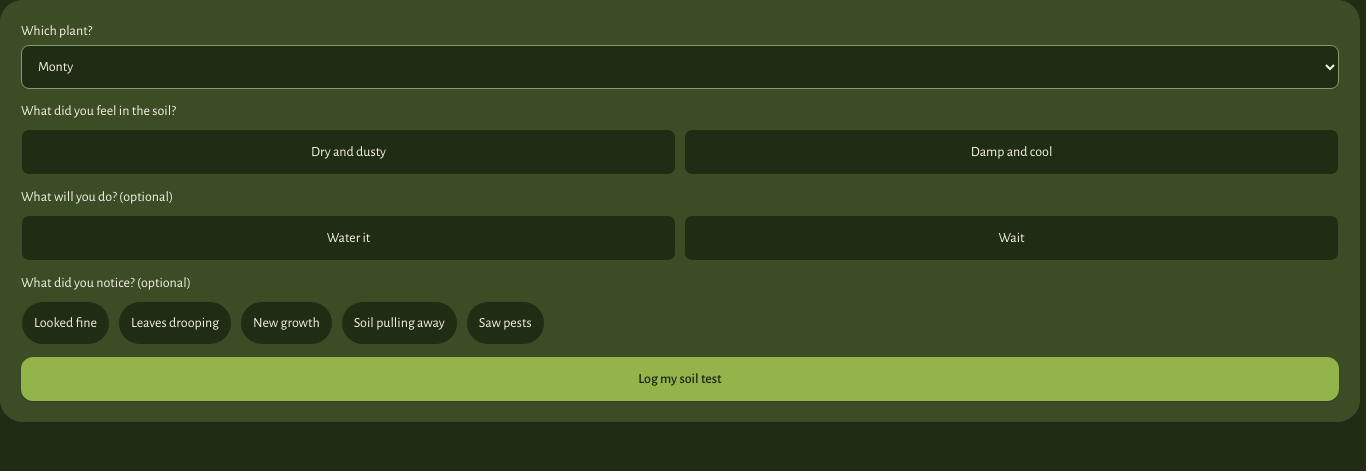
Scenario: SoilTestStep with plants › a failed save shows an error and keeps the form
Click the button "Dry and dusty" at (348, 152), box [21, 129, 676, 175]
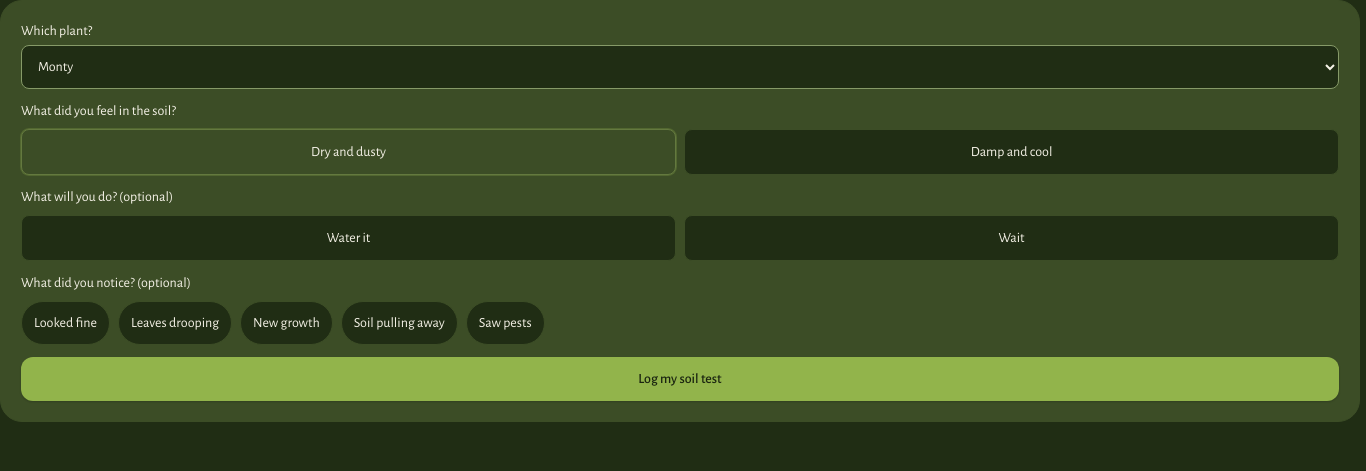
Click the button "Log my soil test" at (680, 379), box [21, 357, 1339, 401]
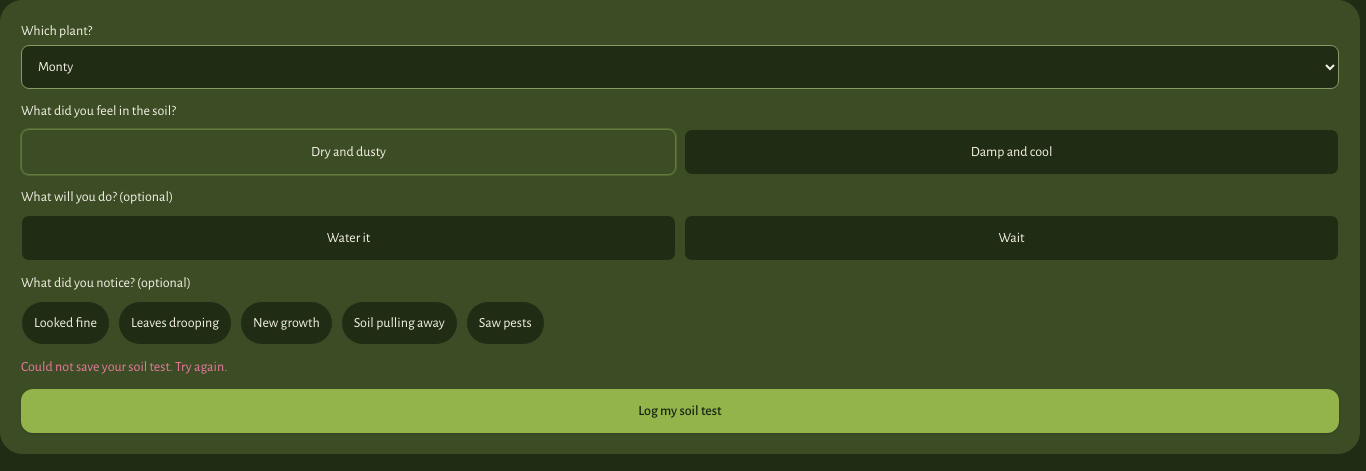
Now the message "Could not save your soil test. Try again." is shown, box [21, 360, 227, 374]
